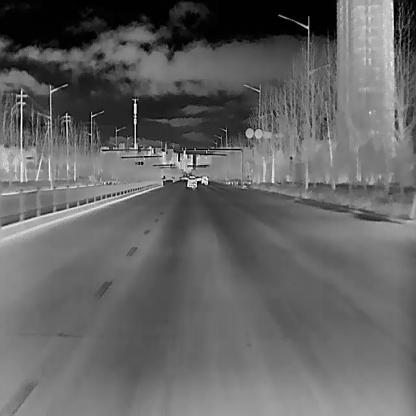car: (186, 175, 196, 186), (200, 174, 208, 184), (196, 173, 200, 180)
